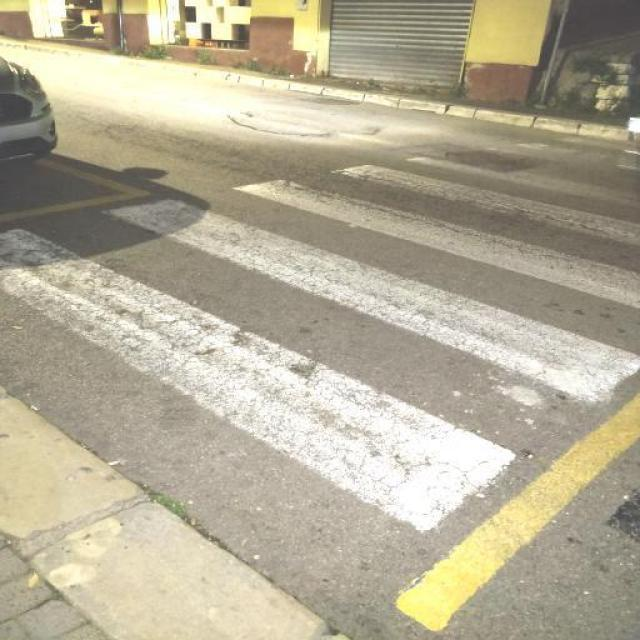crosswalk: (0, 146, 640, 535)
